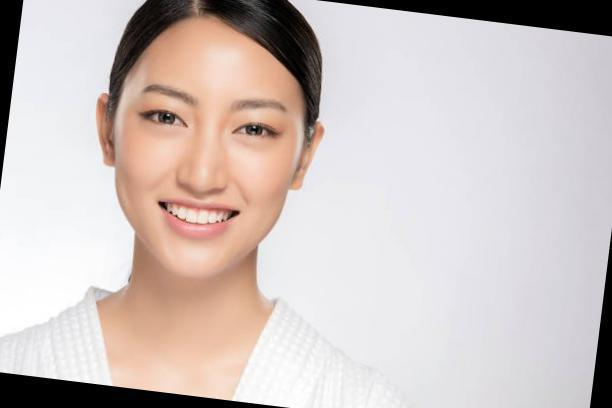Sober: (116, 26, 294, 267)
